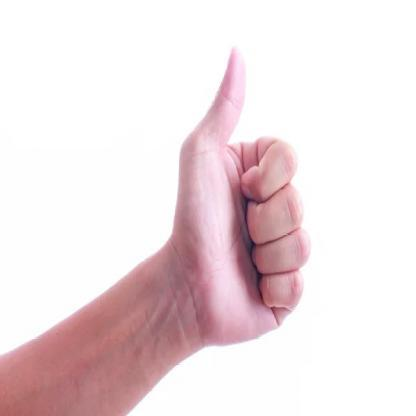thumb_up: (172, 40, 312, 352)
